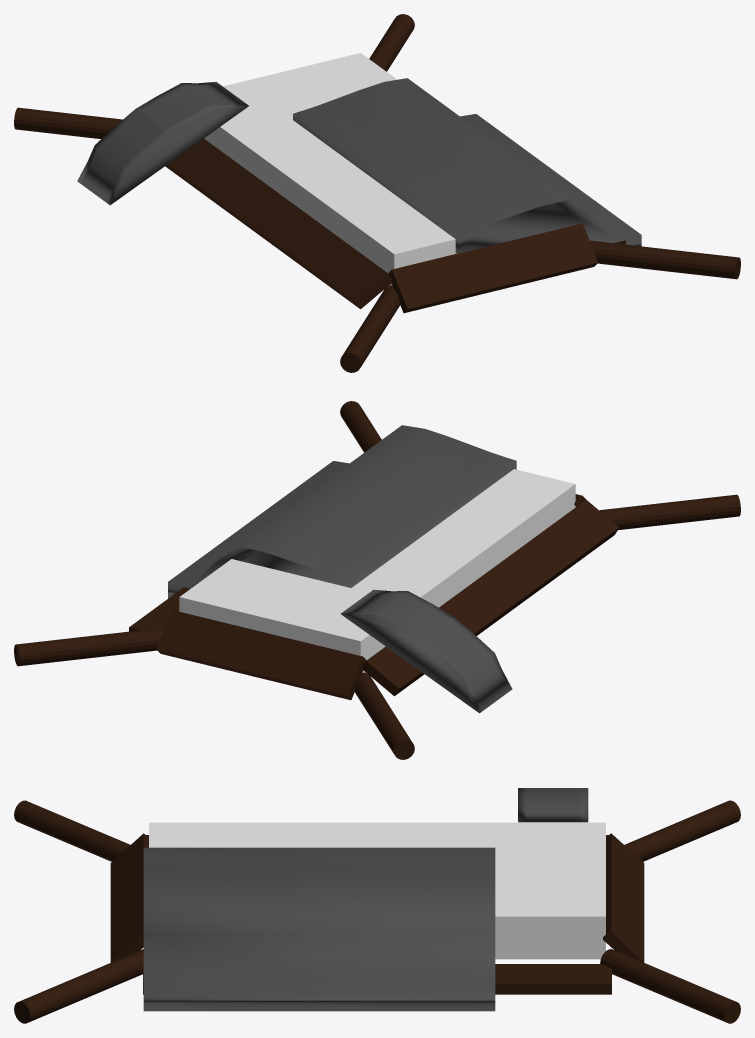
Rendered from BrokenBed.glb.
The picture shows the model from 3 angles, top to bottom: view 1: azimuth 30°, elevation 25°; view 2: azimuth 150°, elevation 25°; view 3: azimuth 270°, elevation 25°; orthographic projection. The views are drawn at different scales.
Parts seen in each view (by area): view 1: Cube.006, Cube.005, Cube.003, Cube.007, Cube.001, Cylinder.001, Cylinder.004, Cylinder.002, Cylinder.003; view 2: Cube.006, Cube.005, Cube.003, Cube.007, Cube.004, Cylinder.003, Cylinder.002, Cylinder.004, Cylinder.001, Cube.002; view 3: Cube.006, Cube.005, Cube.004, Cube.001, Cube.002, Cylinder.003, Cylinder.001, Cylinder.002, Cylinder.004, Cube.007.
Boxes of the visible parts, x1,y1,x2,y2 form: Cube.006: (293, 78, 641, 253); Cube.005: (204, 53, 456, 286); Cube.003: (165, 138, 392, 309); Cube.007: (77, 82, 248, 205); Cube.001: (388, 223, 597, 313); Cylinder.001: (590, 240, 740, 279); Cylinder.004: (14, 107, 122, 138); Cylinder.002: (340, 285, 399, 372); Cylinder.003: (369, 14, 414, 71); Cube.006: (168, 425, 516, 598); Cube.005: (179, 469, 575, 673); Cube.003: (362, 499, 619, 696); Cube.007: (340, 589, 512, 713); Cube.004: (157, 610, 366, 700); Cylinder.003: (14, 627, 164, 666); Cylinder.002: (599, 494, 740, 530); Cylinder.004: (355, 672, 414, 759); Cylinder.001: (340, 401, 381, 452); Cube.002: (129, 587, 189, 631); Cube.006: (143, 847, 495, 1011); Cube.005: (149, 822, 605, 959); Cube.004: (603, 833, 644, 962); Cube.001: (110, 833, 148, 962); Cube.002: (143, 964, 611, 994); Cylinder.003: (600, 949, 740, 1023); Cylinder.001: (14, 949, 143, 1023); Cylinder.002: (14, 800, 130, 861); Cylinder.004: (624, 800, 740, 861); Cube.007: (518, 788, 588, 822).
Size of the model in its own units: 2.1 by 0.3988 by 3.1.
